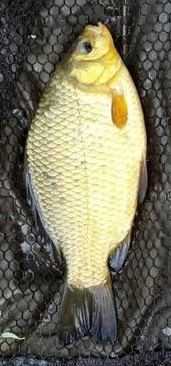Carassius carassius: (20, 20, 151, 346)
